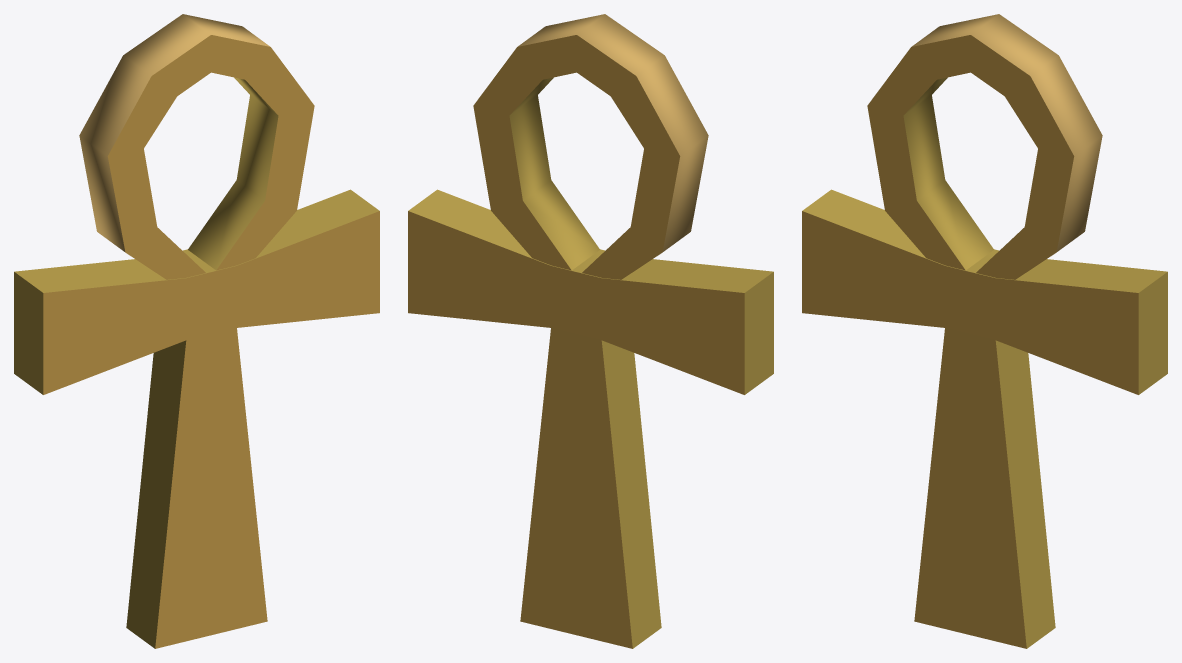
Rendered from Ankh.fbx.
The picture shows the model from 3 angles, left to right: view 1: azimuth 30°, elevation 25°; view 2: azimuth 150°, elevation 25°; view 3: azimuth 330°, elevation 25°; orthographic projection.
Visible parts, largest first — view 1: Ankh; view 2: Ankh; view 3: Ankh.
Boxes of the visible parts, x1,y1,x2,y2 form: Ankh: [14, 14, 379, 648]; Ankh: [408, 14, 773, 648]; Ankh: [802, 14, 1167, 648].
Bounding box in the file's own units: 2.06 × 0.3106 × 3.52.
1 material, 1 textured.
